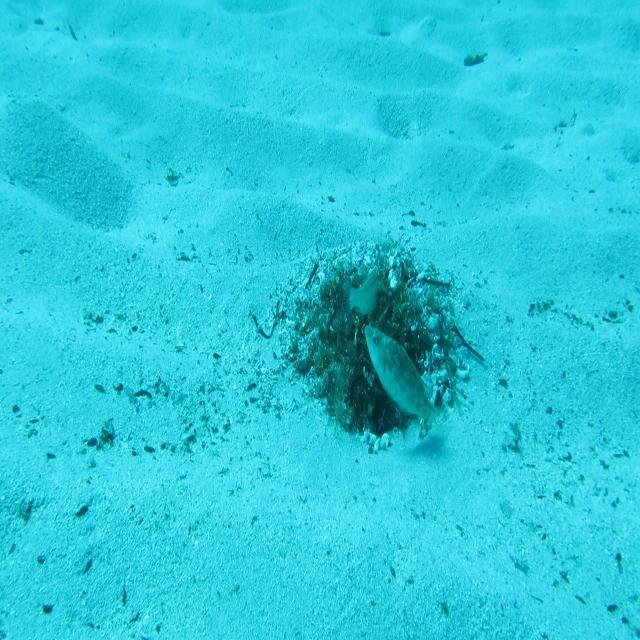GB: (363, 322, 448, 435)
female: (334, 261, 382, 331)
nest: (262, 224, 477, 477)
vegetation: (462, 52, 486, 69)
